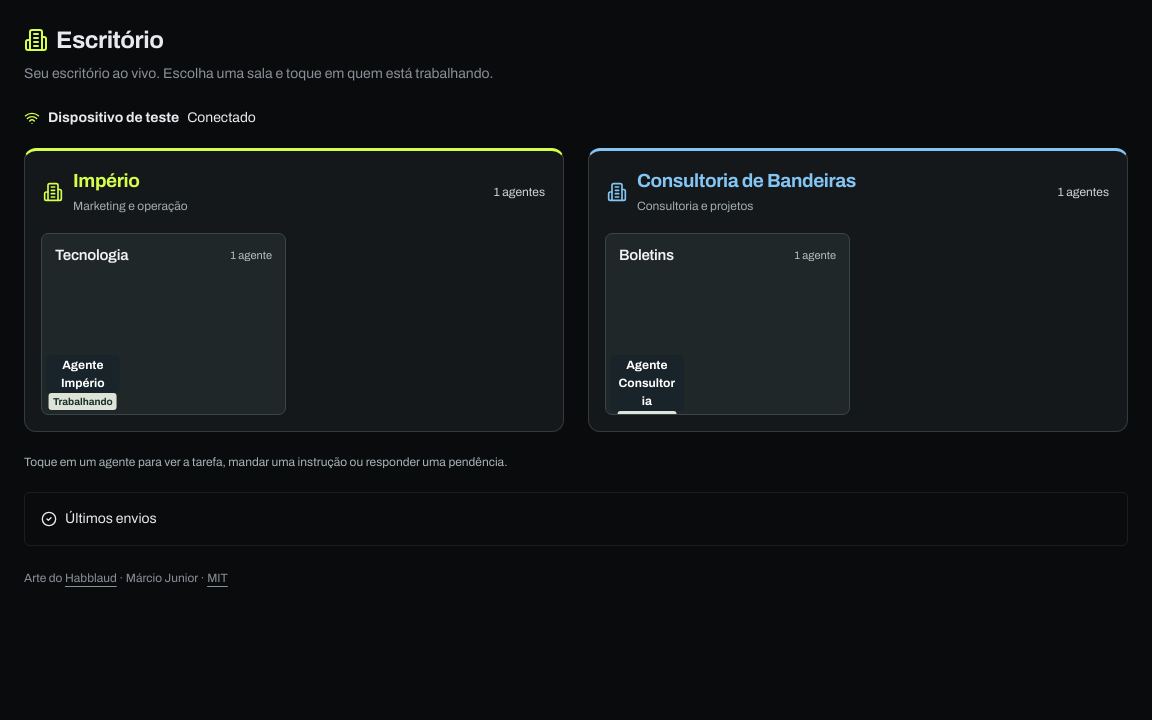
Test case: Escritório visual e comandos › keeps each agent in its company wing and opens the selected session
This screenshot has width=1152, height=720.
Click the button with aria-label "Abrir Agente Consultoria": [647, 369] box [610, 310, 683, 428]
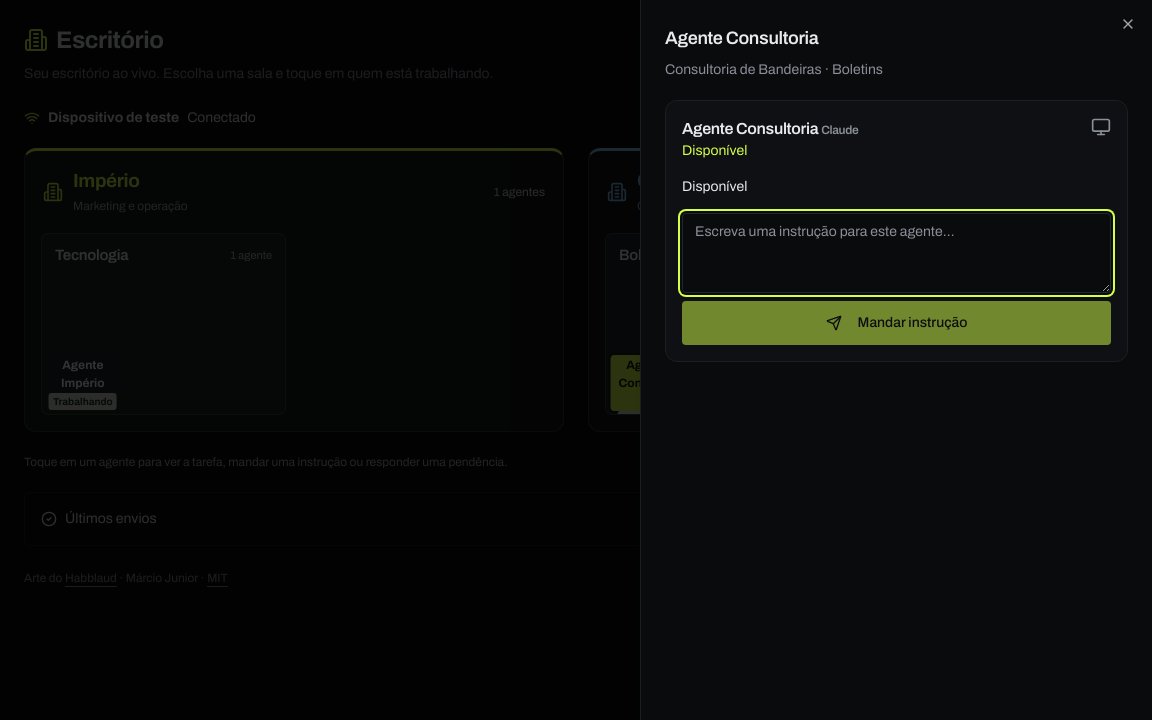
Result: the text box named "Instrução para Agente Consultoria" is enabled at [682, 213, 1111, 293]
